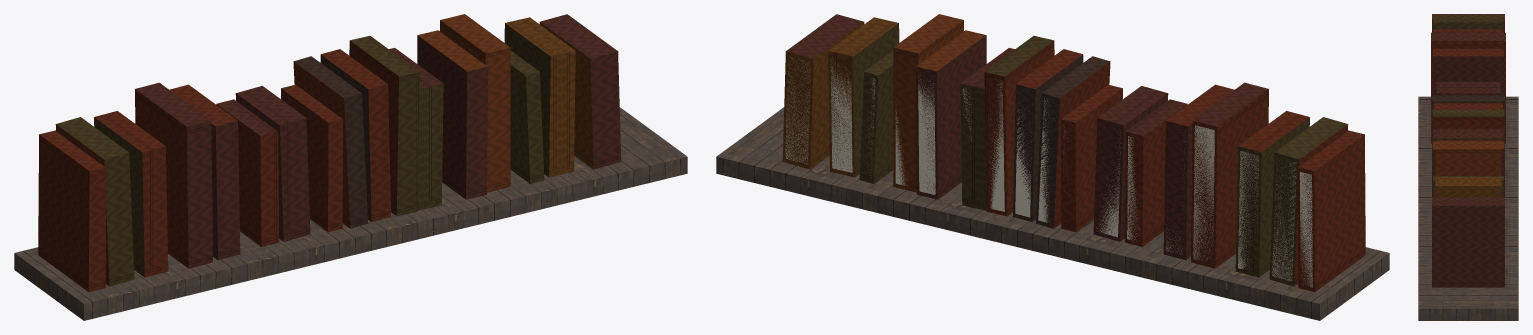
The model's file is shelfrow.glb.
The picture shows the model from 3 angles, left to right: view 1: azimuth 30°, elevation 25°; view 2: azimuth 150°, elevation 25°; view 3: azimuth 270°, elevation 25°; orthographic projection. The views are drawn at different scales.
Parts seen in each view (by area): view 1: shelfrow; view 2: shelfrow; view 3: shelfrow.
Part boxes in pixels (bbox=[...]): shelfrow: bbox=[14, 14, 687, 320]; shelfrow: bbox=[716, 14, 1389, 320]; shelfrow: bbox=[1418, 14, 1518, 320].
Size of the model in its own units: 1.3 by 0.3305 by 0.26.
3 materials, 2 textured.
